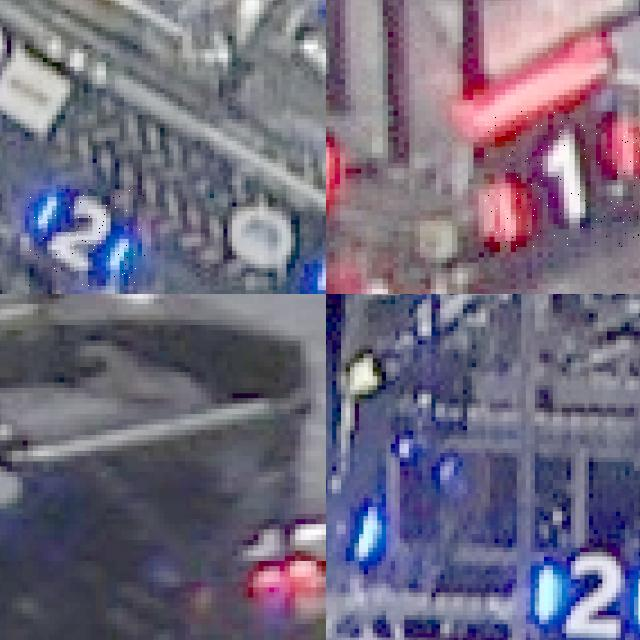B2: (25, 189, 146, 286), (526, 538, 640, 640)
R1: (484, 111, 639, 247)
